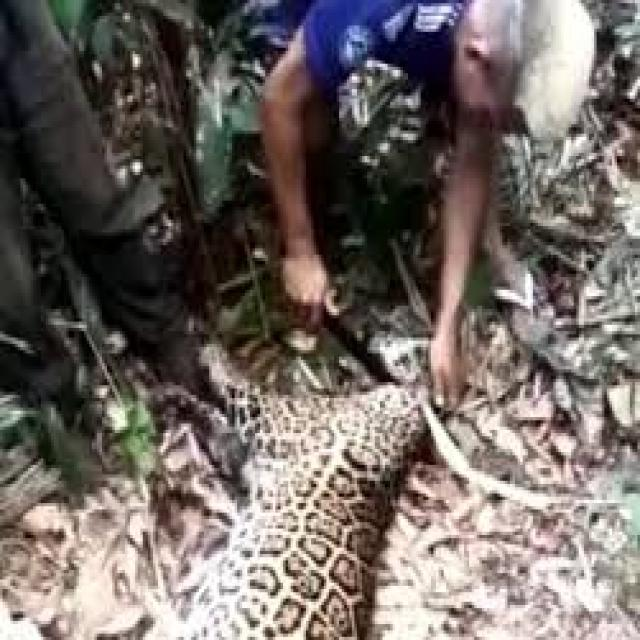Jaguar: (191, 318, 449, 640)
